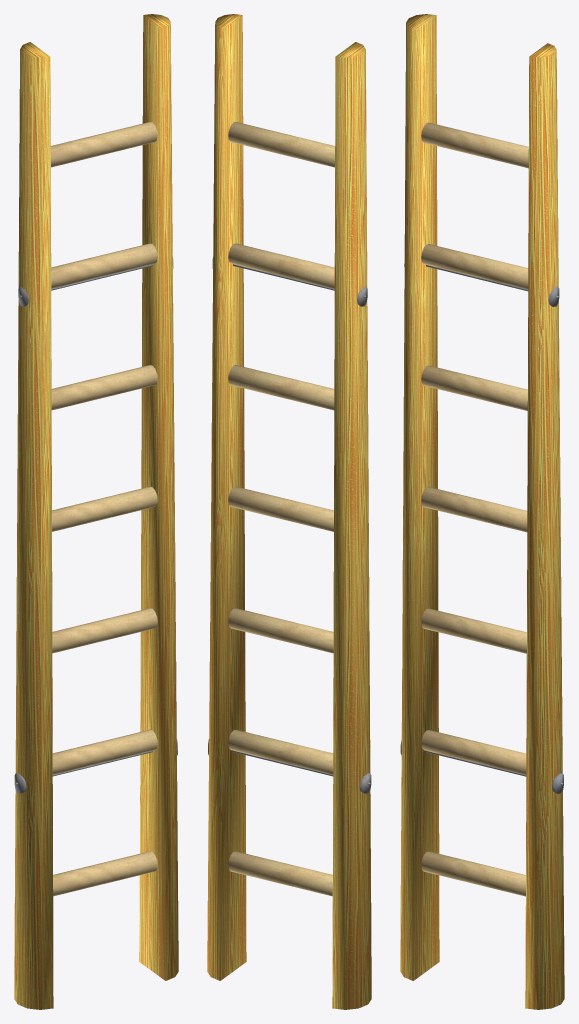
The model's file is 7RungWoodenLadder.fbx.
3 renders of one model, left to right at view 1: azimuth 30°, elevation 25°; view 2: azimuth 150°, elevation 25°; view 3: azimuth 330°, elevation 25°, orthographic.
Visible parts, largest first — view 1: default; view 2: default; view 3: default.
Part boxes in pixels (box(x1,y1,x2,y2)): default: box(14, 14, 178, 1009); default: box(207, 14, 371, 1009); default: box(400, 14, 564, 1009).
Size of the model in its own units: 355 by 2000 by 100.
